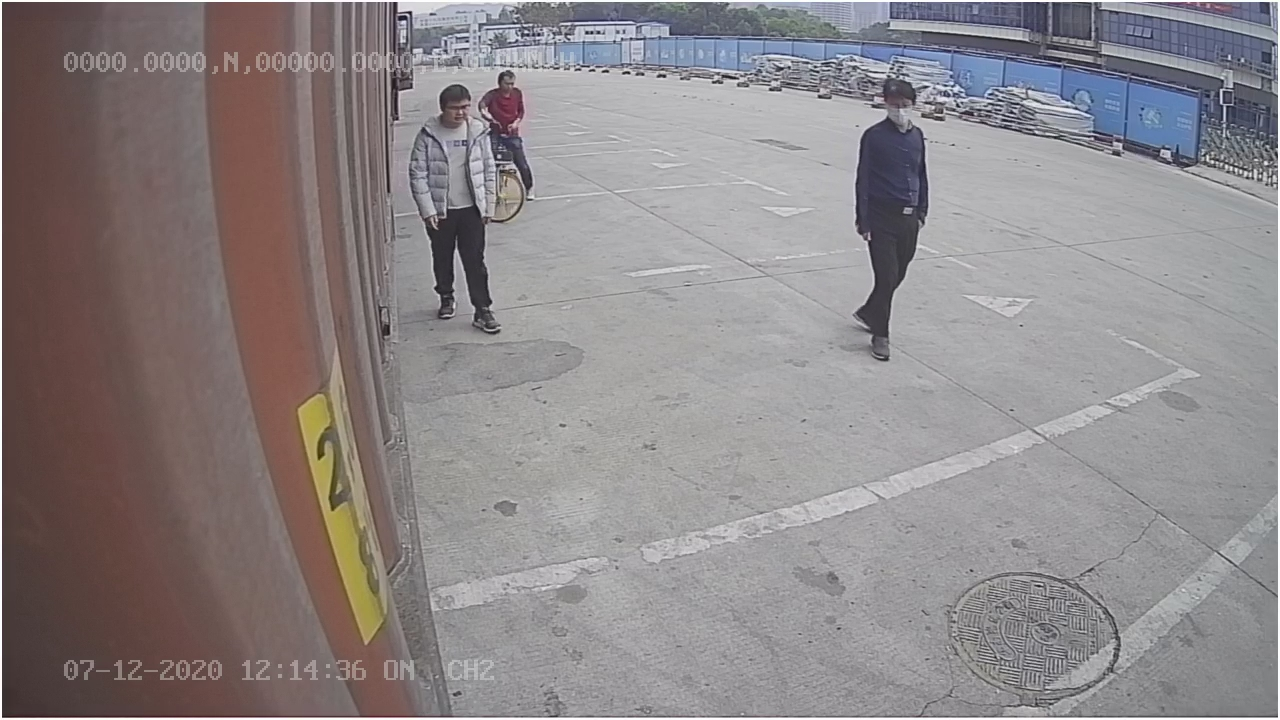person: (852, 73, 934, 360)
